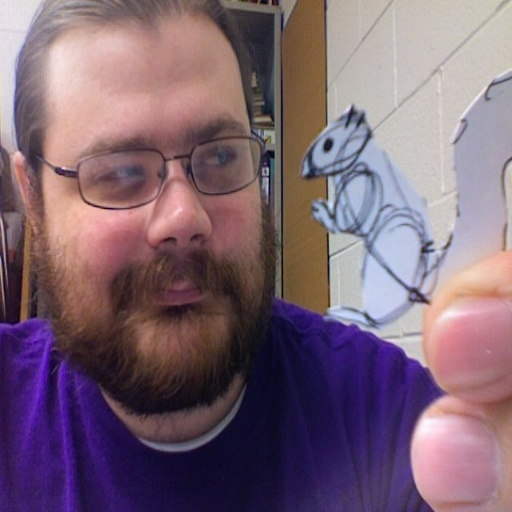hand: (411, 248, 511, 510)
